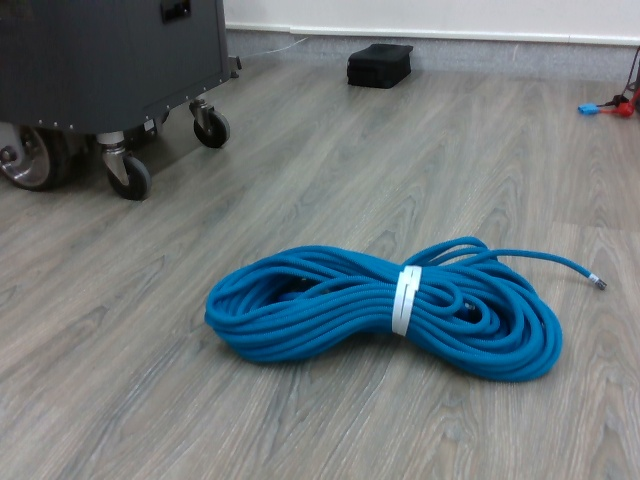rope: (200, 234, 611, 387)
